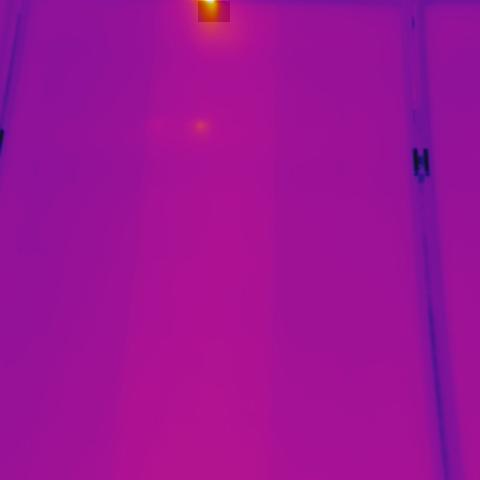fault: (198, 1, 230, 22)
